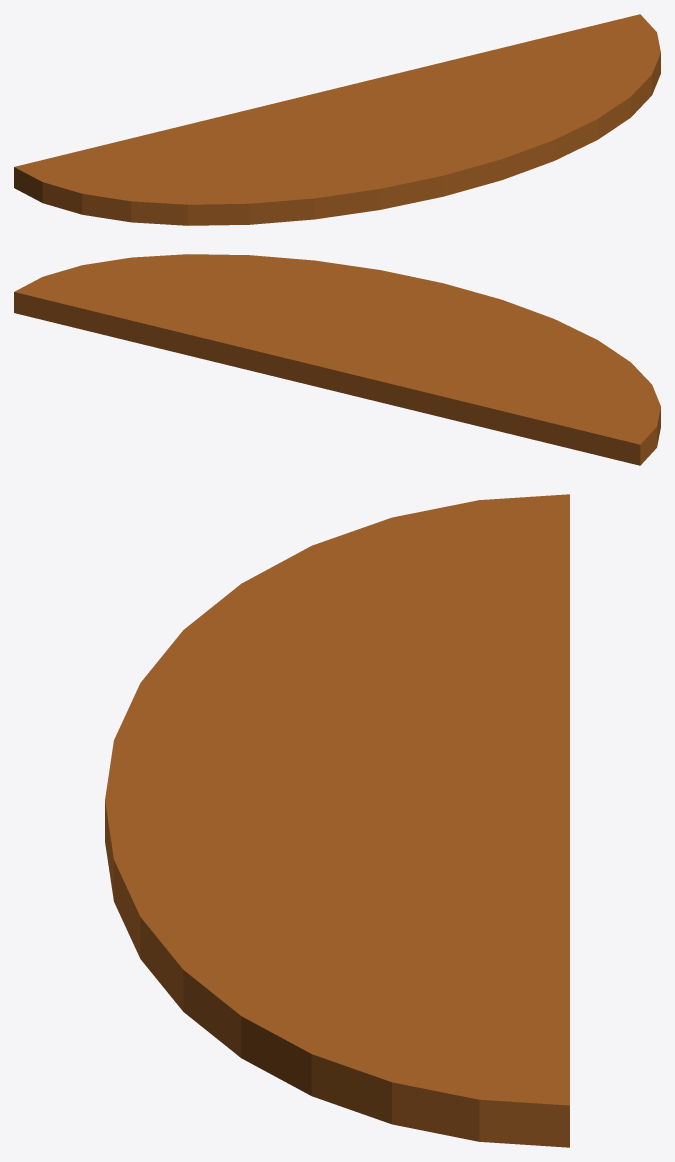
The model's file is FLOOR_STERN.obj.
3 renders of one model, top to bottom at view 1: azimuth 30°, elevation 25°; view 2: azimuth 150°, elevation 25°; view 3: azimuth 270°, elevation 25°, orthographic. The views are drawn at different scales.
Size of the model in its own units: 5.6 by 0.18 by 1.8.
